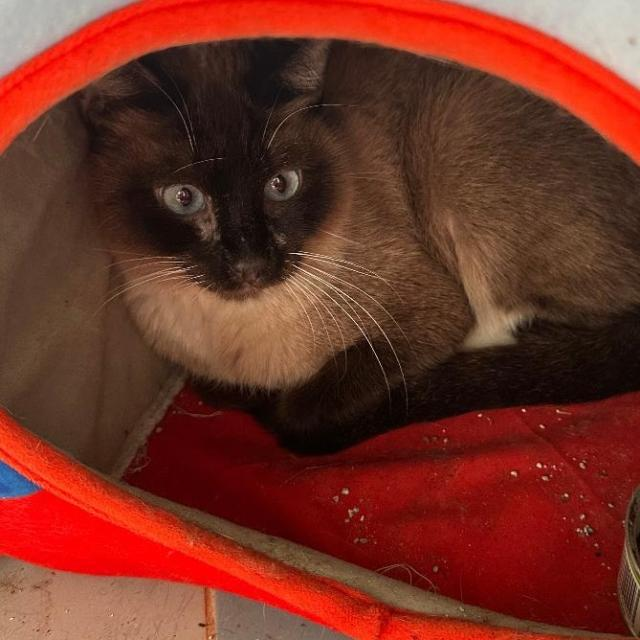siamese_cat: (62, 36, 399, 317)
